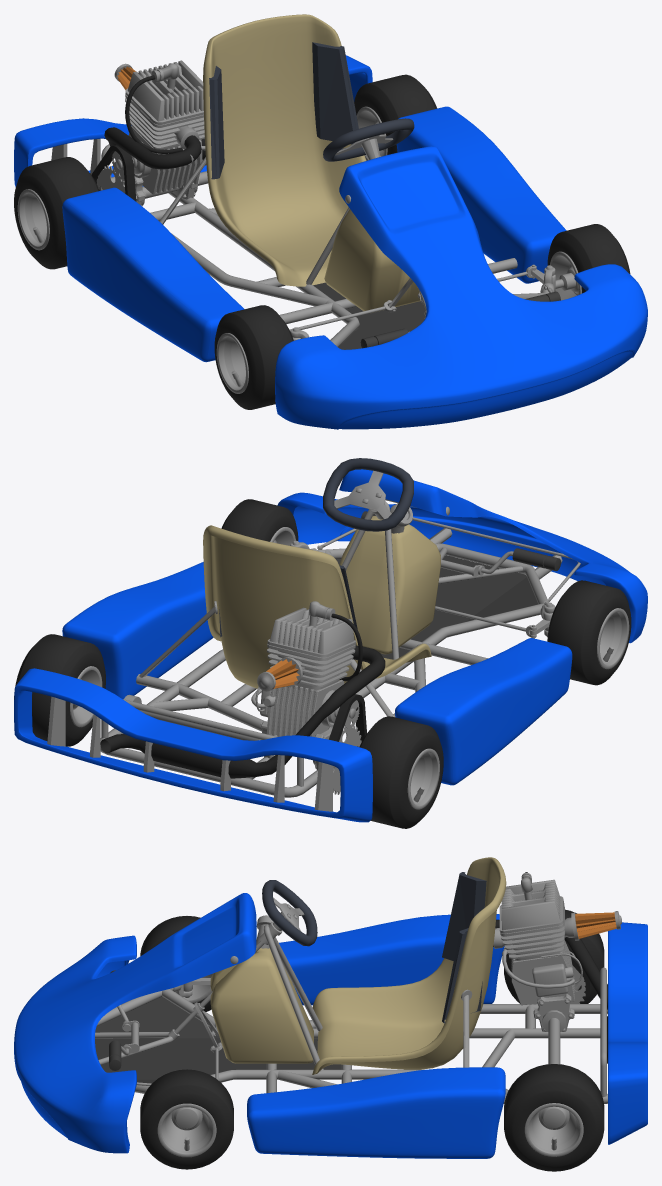
File: Kart.FBX
The picture shows the model from 3 angles, top to bottom: view 1: azimuth 30°, elevation 25°; view 2: azimuth 150°, elevation 25°; view 3: azimuth 270°, elevation 25°; orthographic projection. The views are drawn at different scales.
Visible parts, largest first — view 1: Frente (×2), Plane05, ChamferBox01 (×2), Object04, Plane06, Line15, Line13, Object15, Line07, Line14, Plane03, Torus04 (+7 smaller); view 2: Frente (×2), Plane05, Object04, ChamferBox01 (×2), Line13, Line15, Torus04, Plane03, Line07, Plane04, Object15, Torus01 (+13 smaller); view 3: Frente (×2), Plane05, Object04, ChamferBox01 (×2), Plane03, Line07, Line14, Object15, Plane06, Line06, Line08, Box01 (+9 smaller).
Part boxes in pixels (x1,y1,x2,y2): Frente (×2): (14, 55, 647, 429); Plane05: (203, 14, 366, 286); ChamferBox01 (×2): (125, 93, 420, 312); Object04: (100, 138, 555, 347); Plane06: (209, 42, 358, 179); Line15: (214, 305, 293, 409); Line13: (14, 157, 99, 269); Object15: (125, 60, 203, 124); Line07: (354, 74, 437, 154); Line14: (547, 224, 630, 293); Plane03: (313, 282, 425, 349); Torus04: (104, 127, 205, 169); Frente (×2): (14, 469, 647, 822); Plane05: (203, 525, 431, 688); Object04: (100, 501, 562, 797); ChamferBox01 (×2): (267, 516, 440, 687); Line13: (359, 716, 443, 828); Line15: (547, 580, 631, 685); Torus04: (100, 645, 385, 778); Plane03: (336, 555, 537, 659); Line07: (14, 634, 105, 746); Plane04: (47, 696, 332, 811); Object15: (267, 607, 355, 657); Torus01: (323, 458, 413, 531); Frente (×2): (14, 893, 647, 1158); Plane05: (312, 857, 506, 1074); Object04: (95, 912, 607, 1103); ChamferBox01 (×2): (210, 901, 564, 1063); Plane03: (95, 996, 341, 1083); Line07: (504, 1064, 604, 1171); Line14: (140, 1069, 233, 1169); Object15: (499, 879, 563, 933); Plane06: (442, 872, 486, 1023); Line06: (157, 1103, 216, 1157); Line08: (524, 1103, 583, 1156); Box01: (511, 940, 574, 1005).
Size of the model in its own units: 1653 by 887 by 2448.
